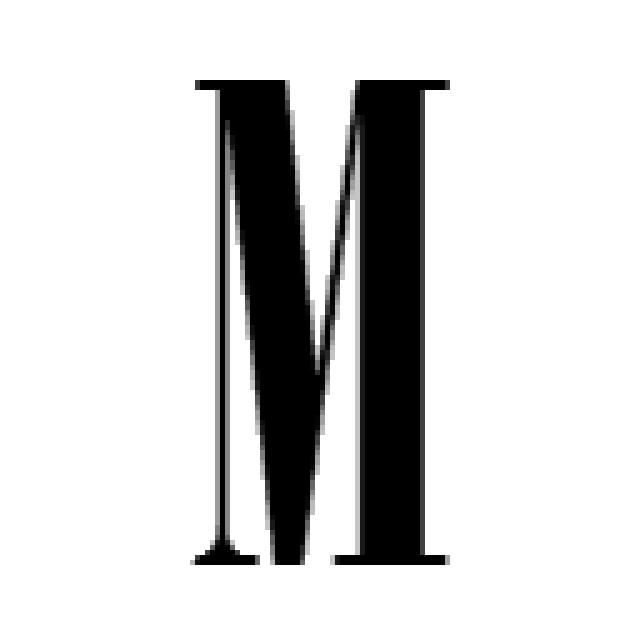M: (150, 71, 471, 571)
